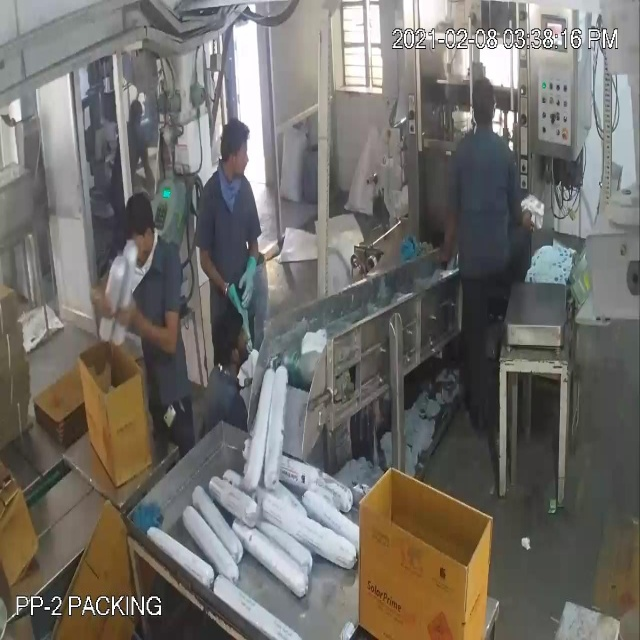Guantes: (237, 252, 268, 324)
Sin_guantes: (125, 281, 197, 372)
